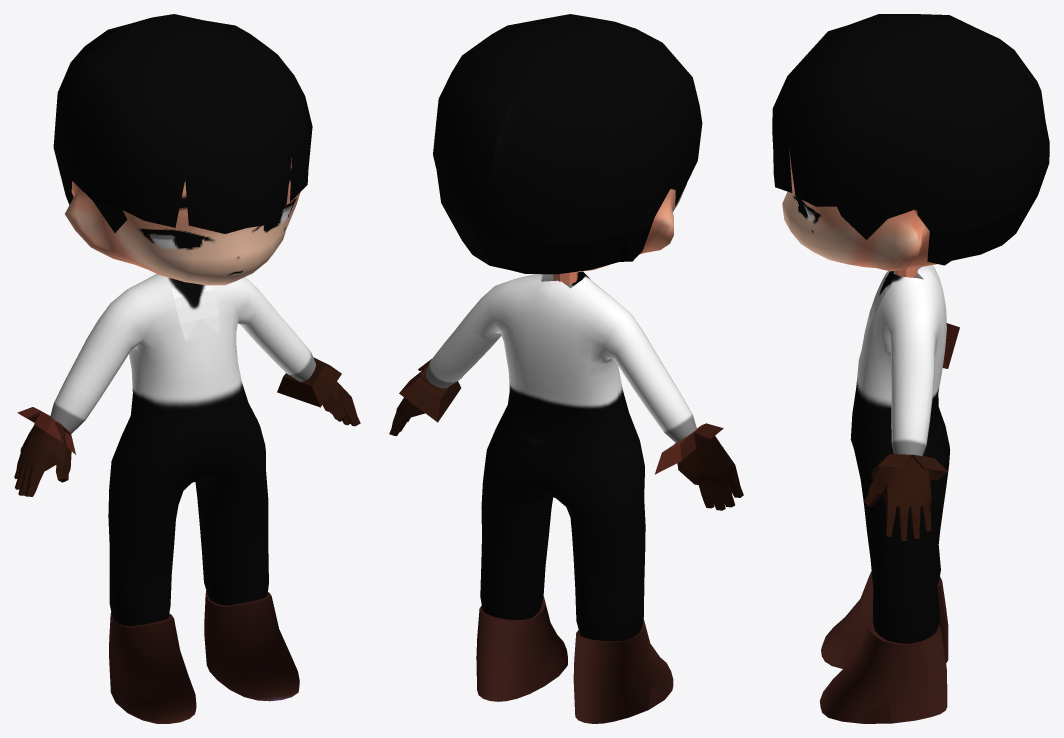
File: 남캐완성.fbx
3 renders of one model, left to right at view 1: azimuth 30°, elevation 25°; view 2: azimuth 150°, elevation 25°; view 3: azimuth 270°, elevation 25°, orthographic. The views are drawn at different scales.
Visible parts, largest first — view 1: Object042; view 2: Object042; view 3: Object042.
Part boxes in pixels (x1,y1,x2,y2): Object042: (14,14,360,723); Object042: (389,14,743,723); Object042: (772,14,1049,723).
Bounding box in the file's own units: 388 × 723 × 280.
1 material, 1 textured.
